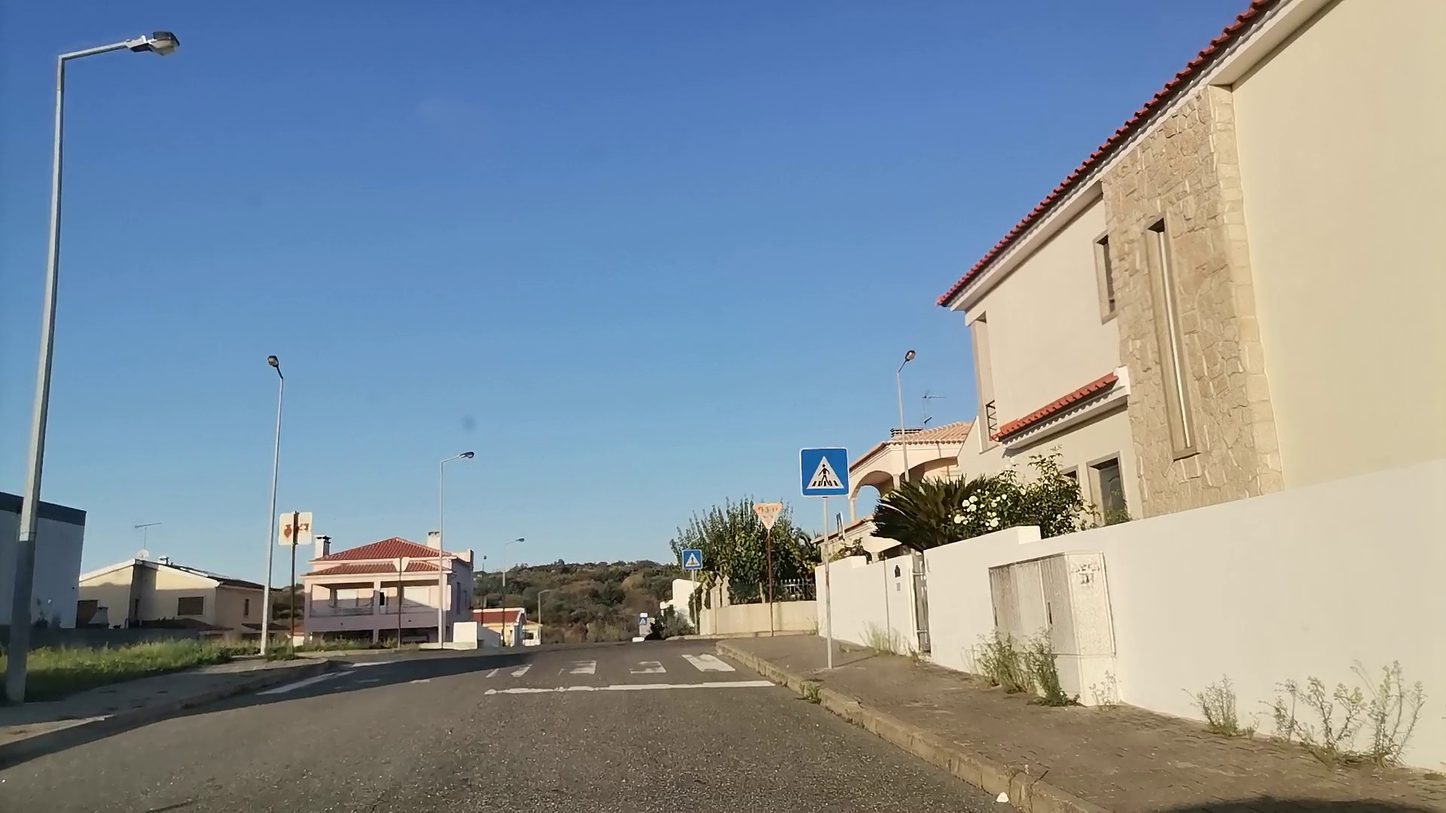Stairs: (306, 653, 767, 699)
